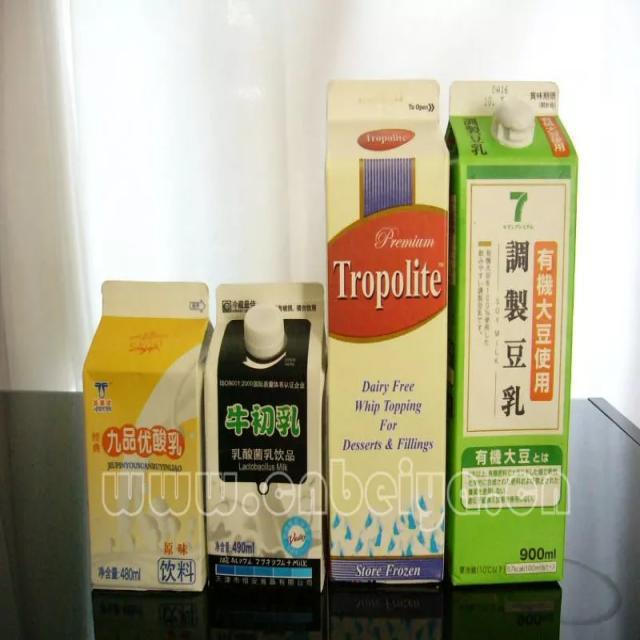Carton: (317, 62, 453, 590), (446, 85, 574, 610), (72, 272, 230, 599), (202, 273, 330, 576)
